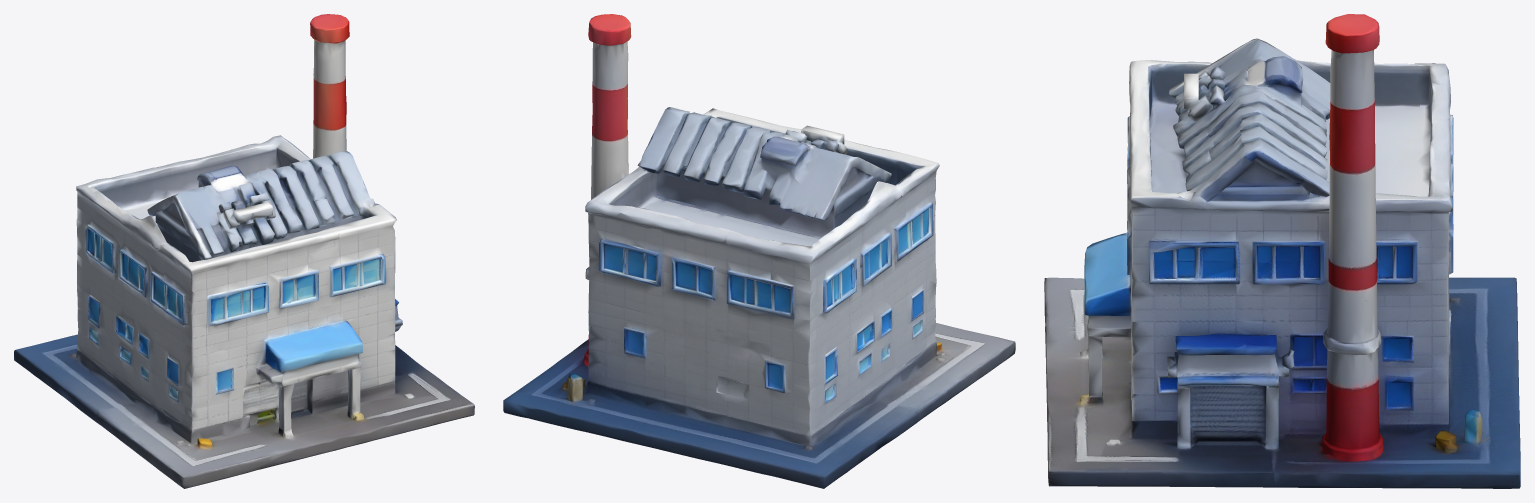
The model's file is baoan.glb.
3 views of the same model, side by side, from view 1: azimuth 30°, elevation 25°; view 2: azimuth 150°, elevation 25°; view 3: azimuth 270°, elevation 25° (orthographic). The views are drawn at different scales.
Visible parts, largest first — view 1: tripo_node_c2bd29ec-649c-4492-b1df-312b7202c1c7; view 2: tripo_node_c2bd29ec-649c-4492-b1df-312b7202c1c7; view 3: tripo_node_c2bd29ec-649c-4492-b1df-312b7202c1c7.
Part boxes in pixels (x1,y1,x2,y2): tripo_node_c2bd29ec-649c-4492-b1df-312b7202c1c7: (14,14,474,488); tripo_node_c2bd29ec-649c-4492-b1df-312b7202c1c7: (503,14,1015,488); tripo_node_c2bd29ec-649c-4492-b1df-312b7202c1c7: (1044,14,1520,488).
Size of the model in its own units: 0.9561 by 1 by 0.9743.
1 material, 1 textured.
